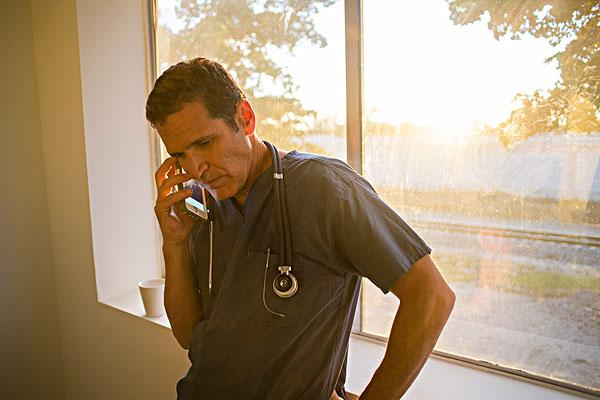calling: (151, 152, 211, 241)
